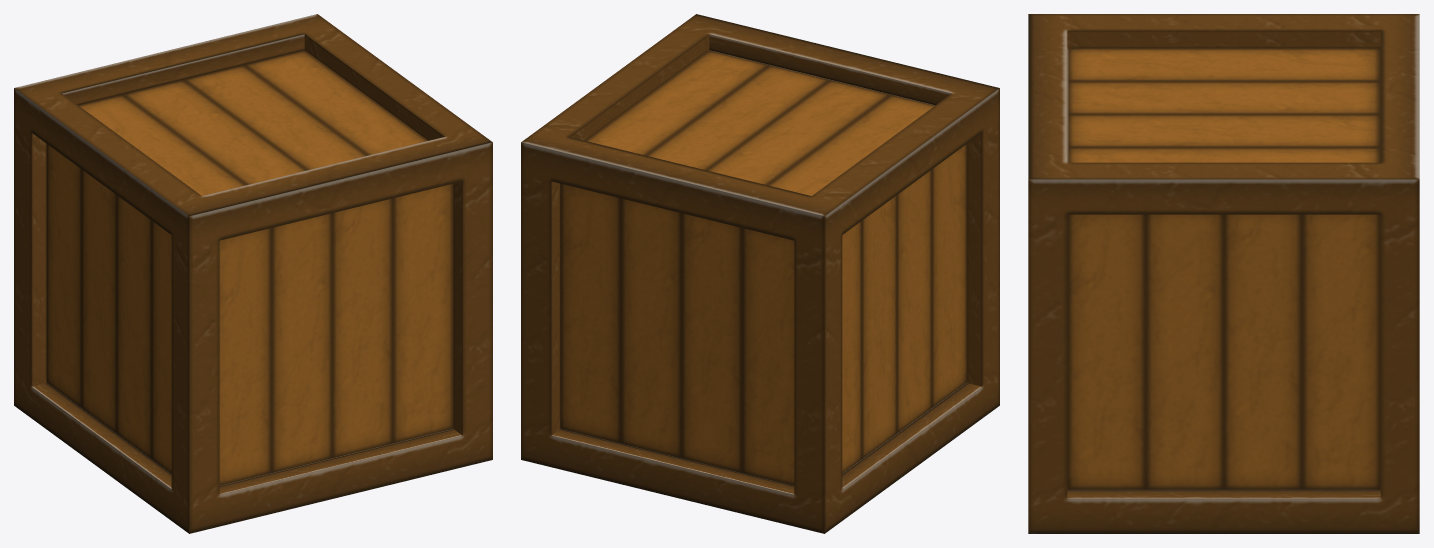
File: Box_Crate_1-1.fbx
The picture shows the model from 3 angles, left to right: view 1: azimuth 30°, elevation 25°; view 2: azimuth 150°, elevation 25°; view 3: azimuth 270°, elevation 25°; orthographic projection. The views are drawn at different scales.
Visible parts, largest first — view 1: Box_Crate_1-1; view 2: Box_Crate_1-1; view 3: Box_Crate_1-1.
Boxes of the visible parts, x1,y1,x2,y2 form: Box_Crate_1-1: (14,14,492,533); Box_Crate_1-1: (521,14,999,533); Box_Crate_1-1: (1028,14,1419,533).
Size of the model in its own units: 100 by 100 by 100.
1 material, 1 textured.
